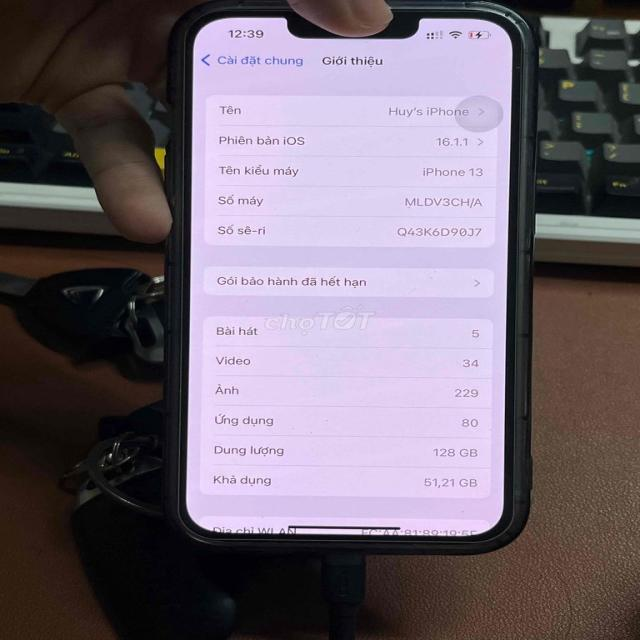gen_12_13: (154, 0, 541, 556)
